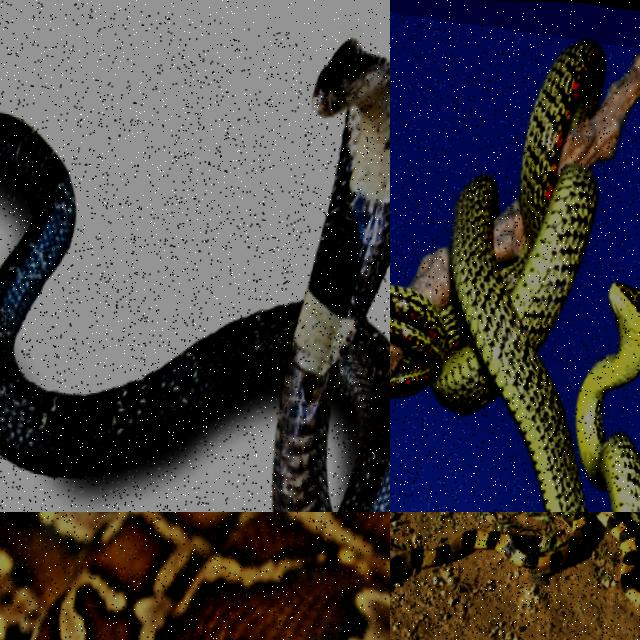Bungarus fasciatus: (390, 512, 639, 605)
Chrysopelea ornata: (390, 42, 606, 511)
Naja siamensis: (0, 41, 389, 511)
Python bivittatus: (0, 512, 389, 639)
snake: (0, 41, 389, 511), (390, 42, 606, 511), (0, 512, 389, 639), (390, 512, 639, 605)
